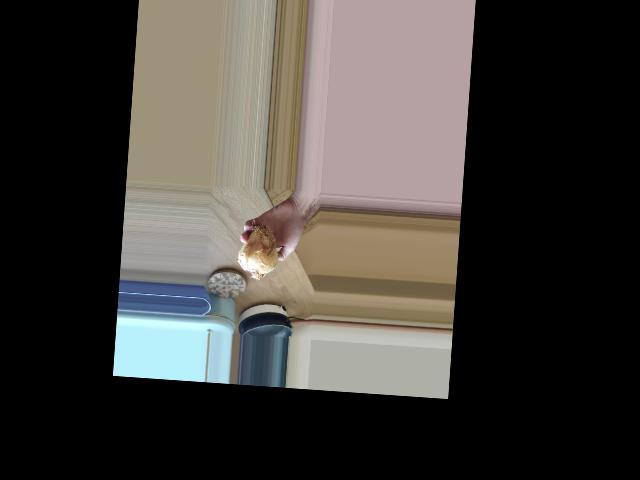onion: (235, 220, 281, 278)
